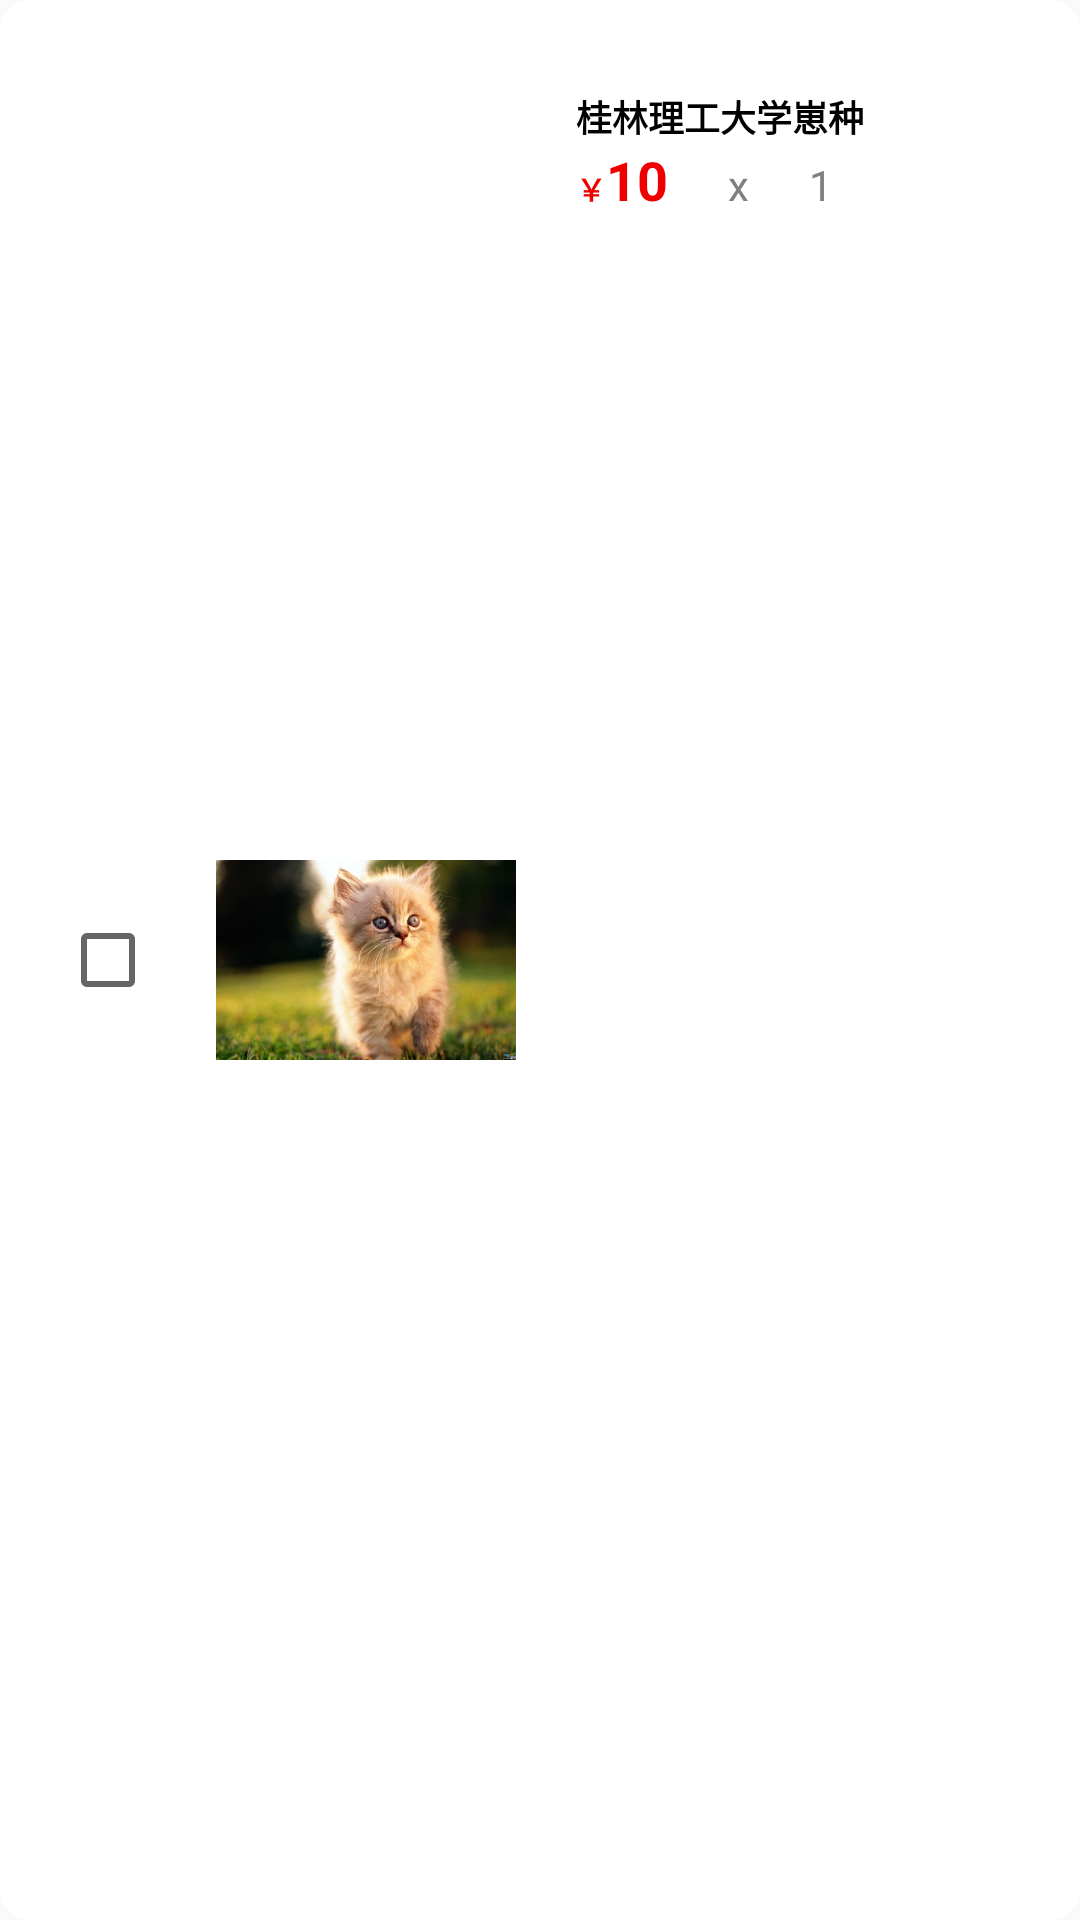

Named icons in this screenshot (1080w x 1920h) and their centers, (x,y):
animal: (366,960)
